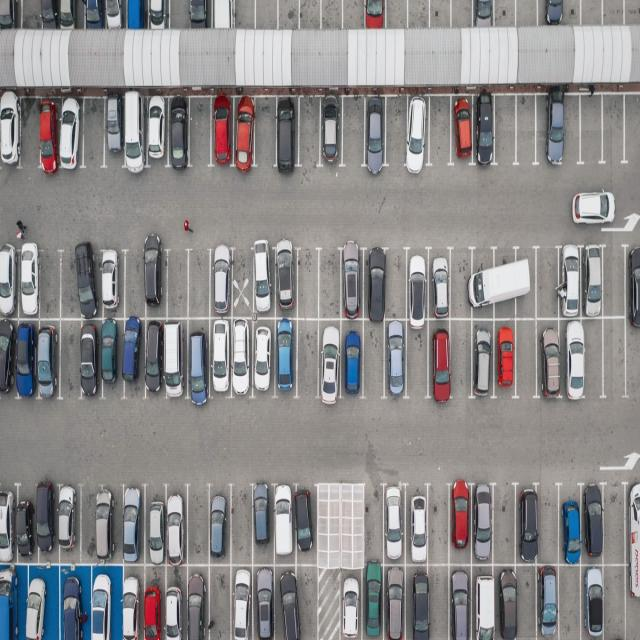space-empty: (330, 488, 357, 572), (206, 564, 236, 639), (290, 564, 319, 638), (292, 320, 319, 397), (404, 321, 431, 397), (602, 318, 628, 396), (184, 488, 210, 566), (516, 318, 542, 395), (231, 487, 256, 567), (423, 564, 450, 638), (557, 562, 583, 638), (448, 319, 473, 398), (426, 485, 450, 567), (254, 93, 280, 167), (361, 319, 386, 395), (601, 245, 626, 320), (534, 249, 560, 321), (492, 487, 516, 565), (341, 95, 367, 167), (59, 320, 83, 398), (361, 488, 384, 569), (426, 96, 452, 167), (188, 97, 214, 168), (293, 250, 319, 320), (582, 318, 605, 397), (492, 93, 517, 165), (604, 563, 628, 638), (538, 488, 561, 566), (448, 250, 474, 319), (515, 565, 539, 639), (166, 249, 191, 319), (298, 97, 323, 167), (603, 95, 628, 165), (381, 250, 406, 320), (83, 98, 108, 168), (602, 486, 624, 565), (316, 251, 341, 320), (580, 93, 604, 164), (384, 97, 408, 168), (232, 245, 255, 317), (20, 99, 43, 171), (515, 94, 538, 165), (186, 250, 210, 318), (38, 250, 61, 320), (124, 251, 148, 317), (61, 250, 84, 317), (78, 488, 98, 562), (562, 94, 582, 167), (319, 491, 337, 567), (625, 319, 640, 396), (624, 95, 640, 164), (383, 0, 408, 29), (254, 0, 278, 30), (342, 0, 366, 30), (320, 0, 344, 30), (277, 0, 300, 31), (407, 0, 431, 29), (299, 0, 322, 30), (450, 0, 474, 28), (429, 0, 453, 28), (233, 0, 256, 29), (21, 0, 43, 30), (169, 0, 191, 30), (515, 0, 538, 27), (493, 0, 515, 27), (601, 0, 624, 25), (581, 0, 603, 25), (624, 0, 640, 23)
space-occupied: (16, 564, 54, 640), (84, 562, 121, 638), (29, 562, 65, 638), (57, 566, 91, 640), (561, 318, 592, 399), (183, 563, 213, 638), (229, 565, 258, 640), (251, 318, 278, 398), (186, 319, 213, 399), (159, 566, 188, 640), (537, 320, 564, 399), (120, 563, 148, 639), (538, 93, 567, 166), (32, 319, 59, 397), (139, 564, 167, 639), (471, 563, 499, 638), (446, 483, 472, 563), (161, 318, 187, 398), (120, 484, 146, 564), (70, 249, 99, 320), (122, 318, 148, 397), (11, 319, 37, 398), (55, 484, 82, 560), (272, 318, 298, 396), (339, 318, 365, 396), (162, 486, 188, 564), (30, 482, 56, 560), (380, 483, 405, 564), (404, 97, 432, 169), (491, 246, 519, 318), (471, 483, 496, 563), (208, 318, 233, 398), (252, 564, 278, 640), (428, 320, 453, 399), (227, 319, 252, 398), (404, 250, 432, 320), (492, 316, 517, 394), (208, 486, 233, 564), (448, 564, 474, 639), (513, 486, 538, 564), (317, 315, 341, 396), (208, 247, 235, 318), (100, 250, 128, 318), (291, 487, 316, 563), (560, 488, 585, 564), (406, 484, 430, 563), (100, 316, 124, 395), (536, 563, 561, 638), (558, 246, 584, 318), (472, 317, 496, 395), (142, 486, 166, 564), (472, 246, 498, 318), (384, 320, 408, 397), (94, 487, 118, 564), (272, 246, 298, 317), (340, 569, 366, 640), (123, 96, 148, 169), (578, 562, 602, 638), (449, 96, 475, 166), (209, 96, 234, 168), (143, 96, 168, 168), (380, 563, 404, 638), (274, 563, 298, 638), (254, 243, 278, 317), (493, 566, 517, 640), (405, 564, 429, 638), (472, 97, 497, 168), (59, 99, 84, 170), (582, 244, 606, 317), (274, 97, 299, 167), (319, 96, 344, 166), (273, 486, 296, 562), (254, 485, 276, 564), (364, 97, 388, 169), (512, 247, 536, 319), (426, 252, 452, 318), (580, 488, 602, 566), (169, 98, 193, 169), (82, 319, 104, 396), (144, 319, 166, 396), (233, 98, 257, 168), (17, 248, 41, 318), (340, 251, 365, 317), (16, 485, 38, 560), (362, 252, 386, 320), (144, 249, 168, 316), (0, 564, 21, 640), (104, 98, 127, 167), (360, 568, 382, 640), (0, 95, 21, 169), (39, 98, 60, 170), (82, 247, 103, 317), (0, 245, 20, 317), (0, 490, 17, 566), (625, 482, 640, 563), (0, 318, 15, 396), (625, 561, 640, 636), (540, 0, 579, 25), (627, 245, 640, 319), (125, 0, 149, 31), (147, 0, 171, 30), (362, 0, 386, 30), (188, 0, 212, 29), (57, 0, 80, 30), (84, 0, 106, 30), (0, 0, 21, 31), (75, 0, 96, 31), (473, 0, 497, 27), (210, 0, 233, 28), (103, 0, 124, 30), (40, 0, 59, 30)
